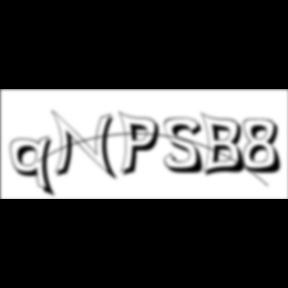8: (242, 117, 288, 176)
B: (201, 111, 251, 179)
N: (51, 109, 121, 183)
P: (119, 110, 166, 180)
S: (164, 117, 210, 176)
q: (10, 135, 60, 200)
